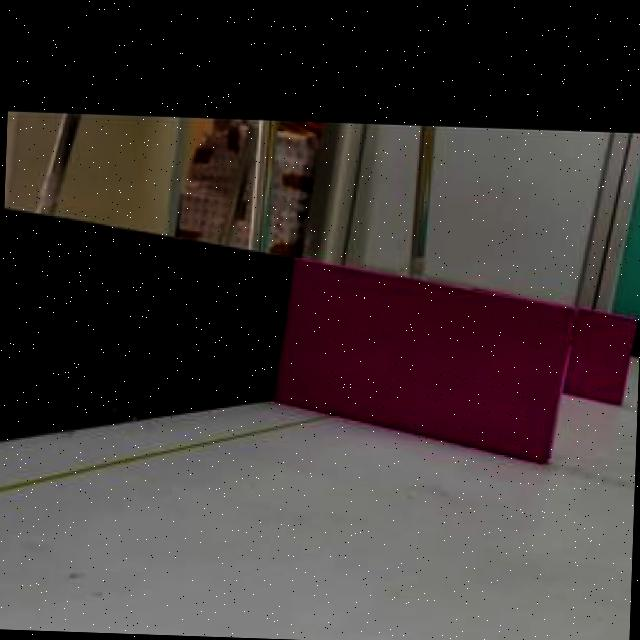xparking: (277, 261, 575, 463), (563, 312, 639, 406)
